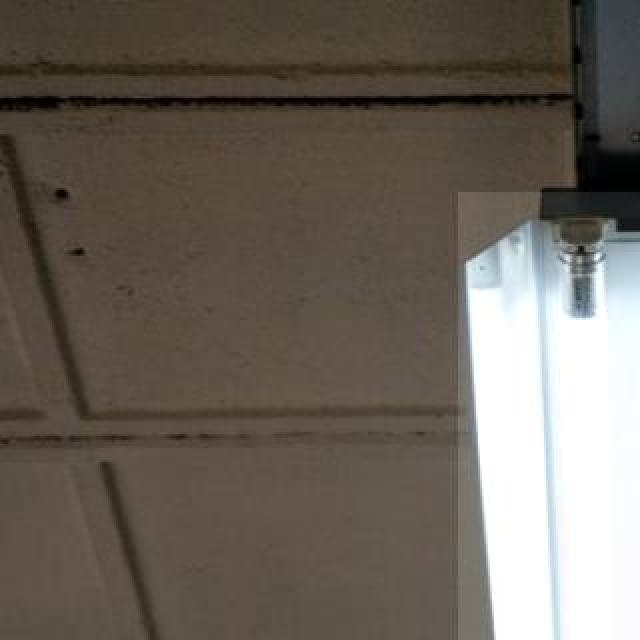fluorescent tube: (522, 178, 632, 640)
